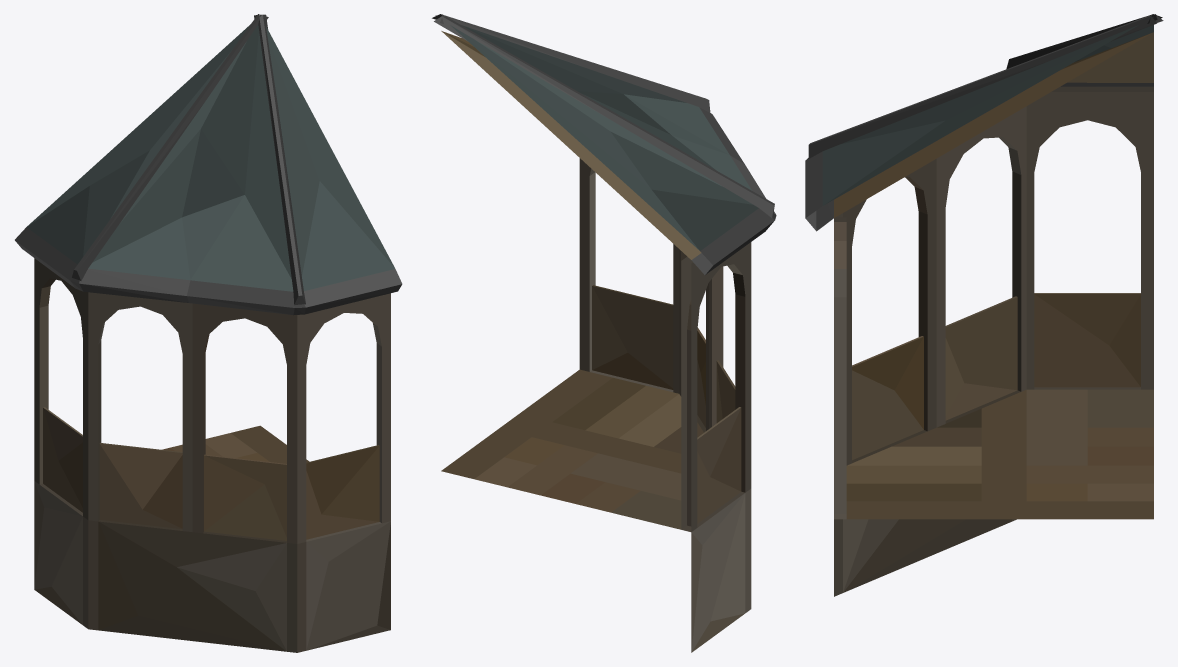
File: Addition_A-Corner.fbx
3 renders of one model, left to right at view 1: azimuth 30°, elevation 25°; view 2: azimuth 150°, elevation 25°; view 3: azimuth 270°, elevation 25°, orthographic. The views are drawn at different scales.
Parts seen in each view (by area): view 1: Addition_A-Corner; view 2: Addition_A-Corner; view 3: Addition_A-Corner.
Boxes of the visible parts, left/top/right/bottom form: Addition_A-Corner: left=15, top=14, right=402, bottom=652; Addition_A-Corner: left=432, top=14, right=776, bottom=652; Addition_A-Corner: left=805, top=14, right=1163, bottom=596.
Size of the model in its own units: 348 by 683 by 348.
